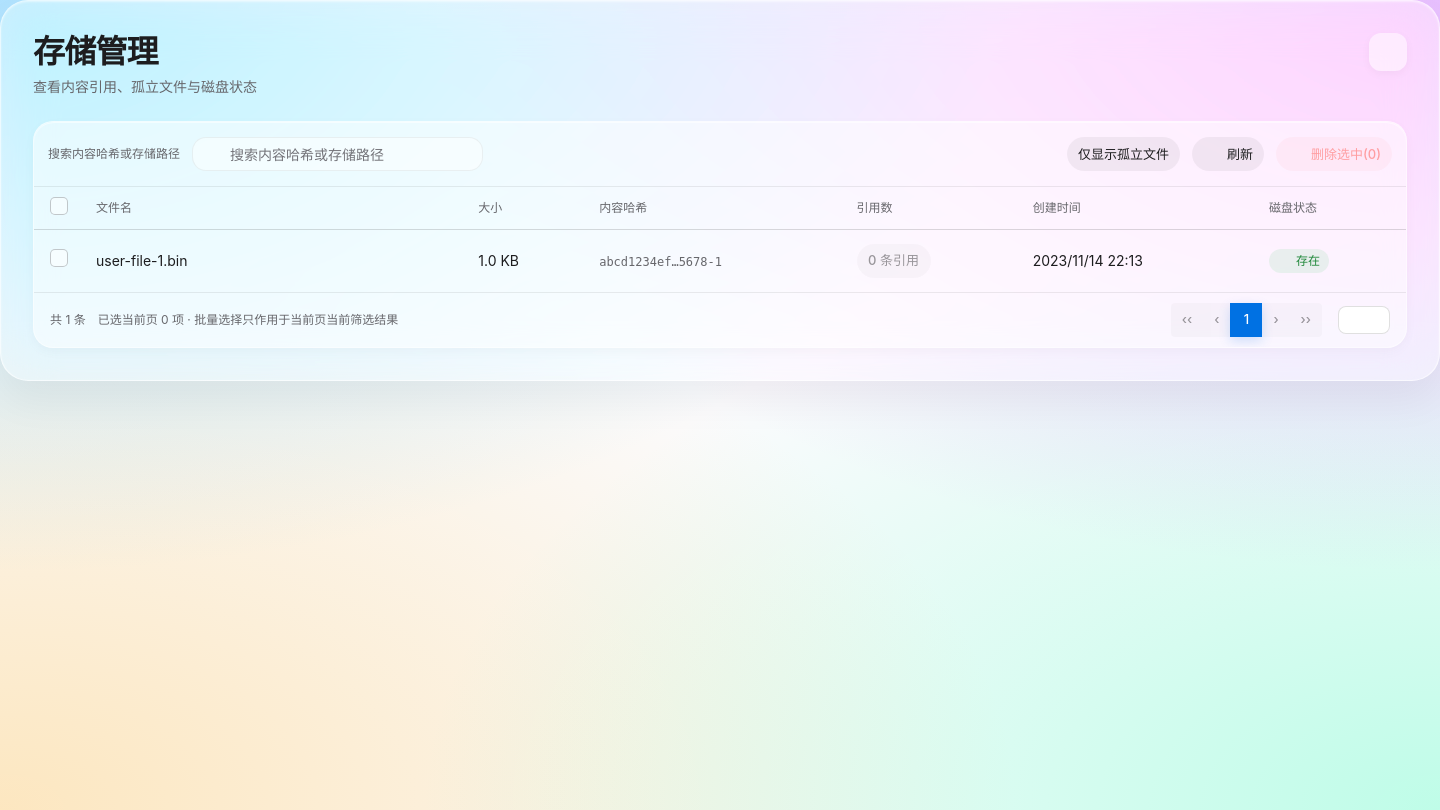
Test case: StoragePage Demo 列表与筛选 › 刷新重新读取并清空当前页选择
Expected: the row with test id "storage-row-1" is shown, [34,229,1406,292]
Click the checkbox named "选择文件 user-file-1.bin".
click(59, 258)  # box [50,249,68,267]
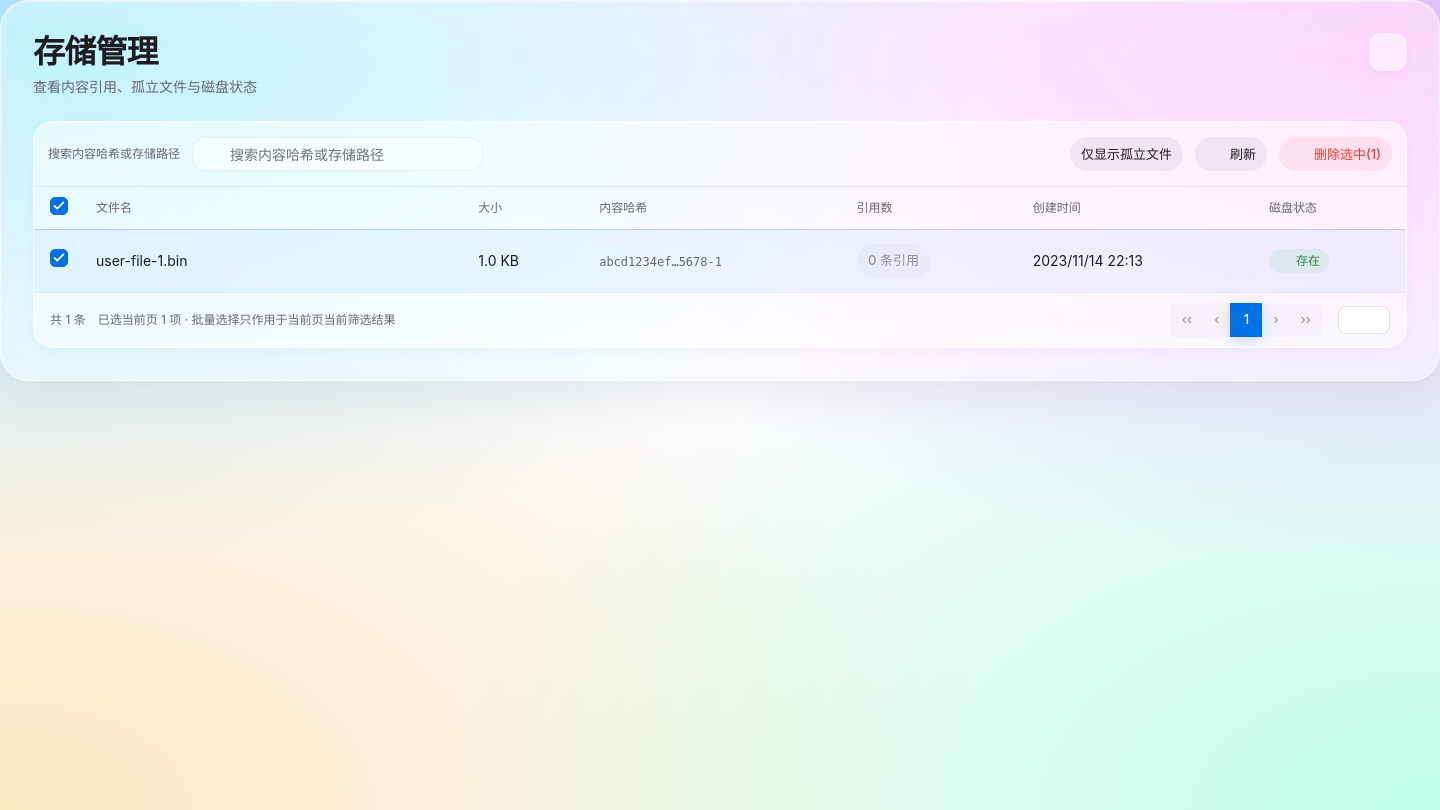
Click the button "刷新".
click(1231, 154)  # box [1195,137,1267,171]
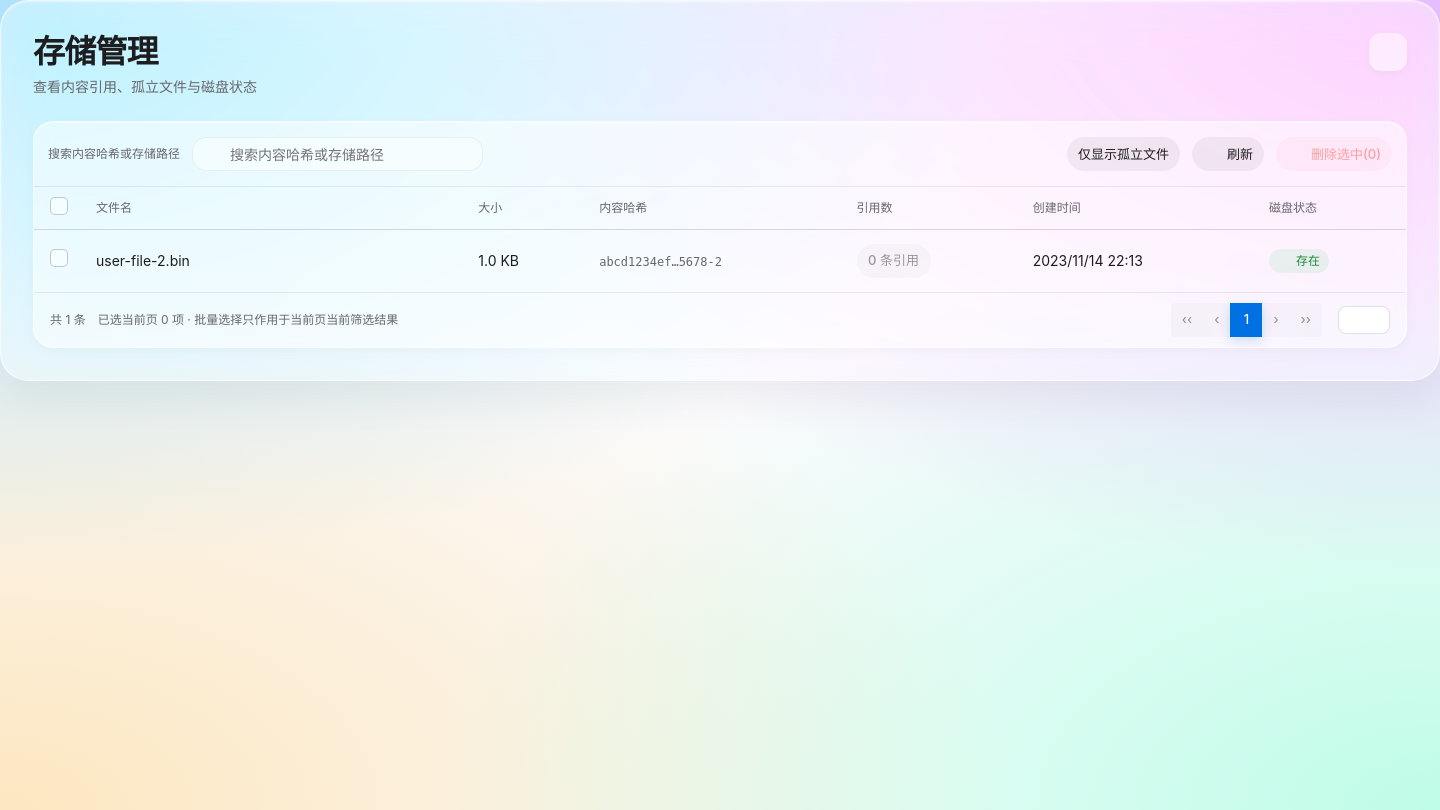
Expected: the button "删除选中(0)" is disabled, [1276,137,1392,171]
Expected: the row with test id "storage-row-2" is shown, [34,229,1406,292]
Expected: the row with test id "storage-row-1" is gone
